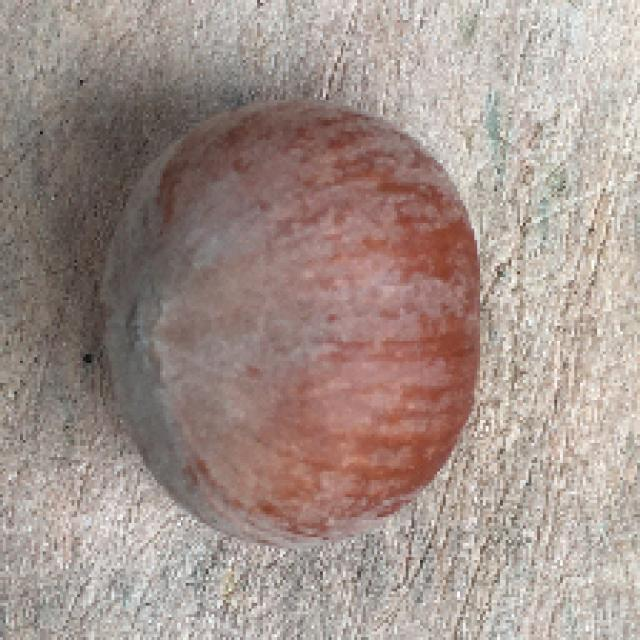qualityHazelnut: (86, 101, 486, 552)
